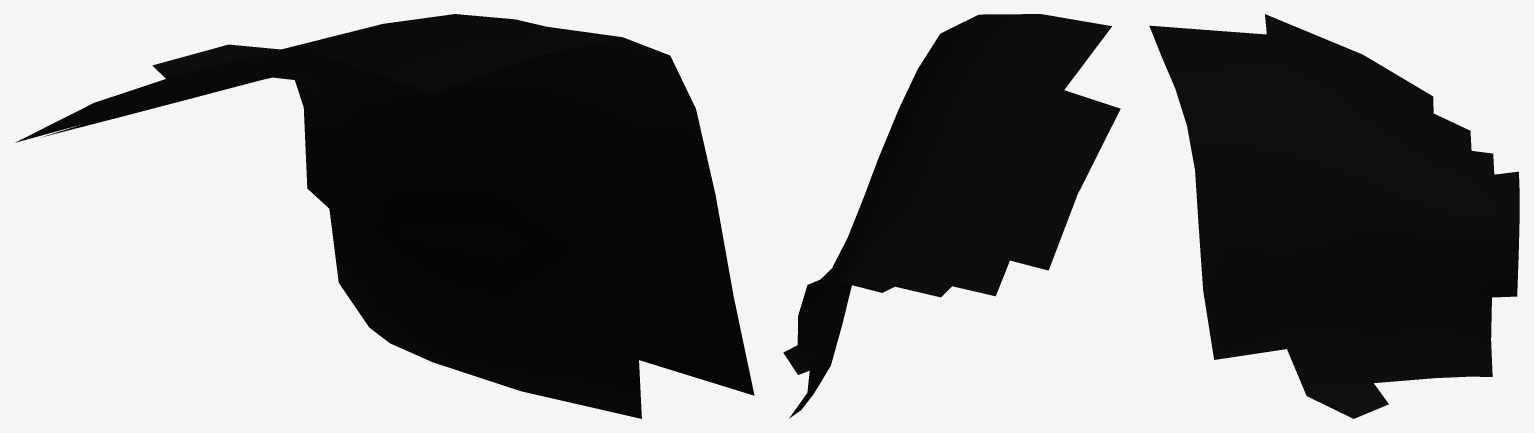
File: HTOWN01_TREESHADOWS03.fbx
3 renders of one model, left to right at view 1: azimuth 30°, elevation 25°; view 2: azimuth 150°, elevation 25°; view 3: azimuth 270°, elevation 25°, orthographic. The views are drawn at different scales.
Parts seen in each view (by area): view 1: HTOWN01_TREESHADOWS03; view 2: HTOWN01_TREESHADOWS03; view 3: HTOWN01_TREESHADOWS03.
Part boxes in pixels (left/top/right/bottom): HTOWN01_TREESHADOWS03: left=15, top=14, right=754, bottom=418; HTOWN01_TREESHADOWS03: left=783, top=14, right=1120, bottom=418; HTOWN01_TREESHADOWS03: left=1149, top=14, right=1519, bottom=418.
Bounding box in the file's own units: 165651 × 156860 × 180896.
Materials: 1 (1 with a texture image).
